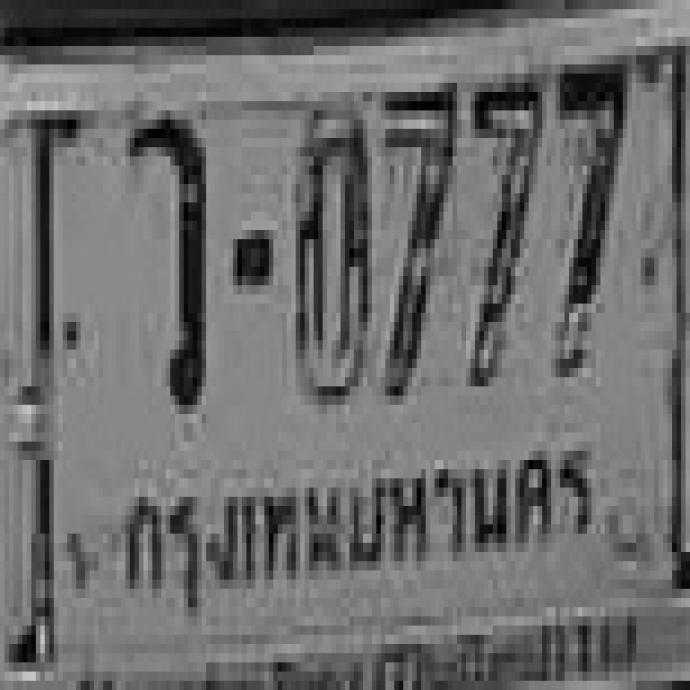0: (290, 103, 373, 410)
7: (381, 74, 455, 388), (468, 64, 540, 377), (553, 53, 623, 370)
A37: (125, 107, 202, 403)
BKK: (114, 433, 603, 612)
